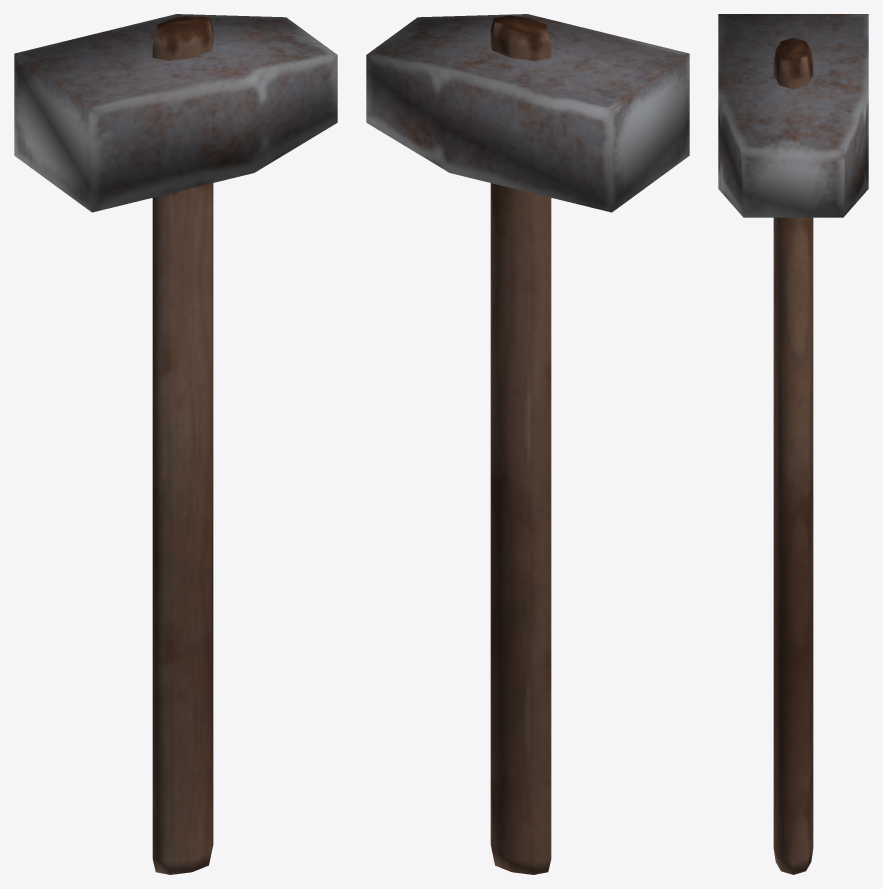
File: martillo_1.fbx
3 views of the same model, side by side, from view 1: azimuth 30°, elevation 25°; view 2: azimuth 150°, elevation 25°; view 3: azimuth 270°, elevation 25° (orthographic). The views are drawn at different scales.
Visible parts, largest first — view 1: martillo_1; view 2: martillo_1; view 3: martillo_1.
Boxes of the visible parts, box(x1,y1,x2,y2) form: martillo_1: box(14, 14, 337, 874); martillo_1: box(366, 14, 689, 874); martillo_1: box(718, 14, 868, 874).
Size of the model in its own units: 27.71 by 86.2 by 14.44.
